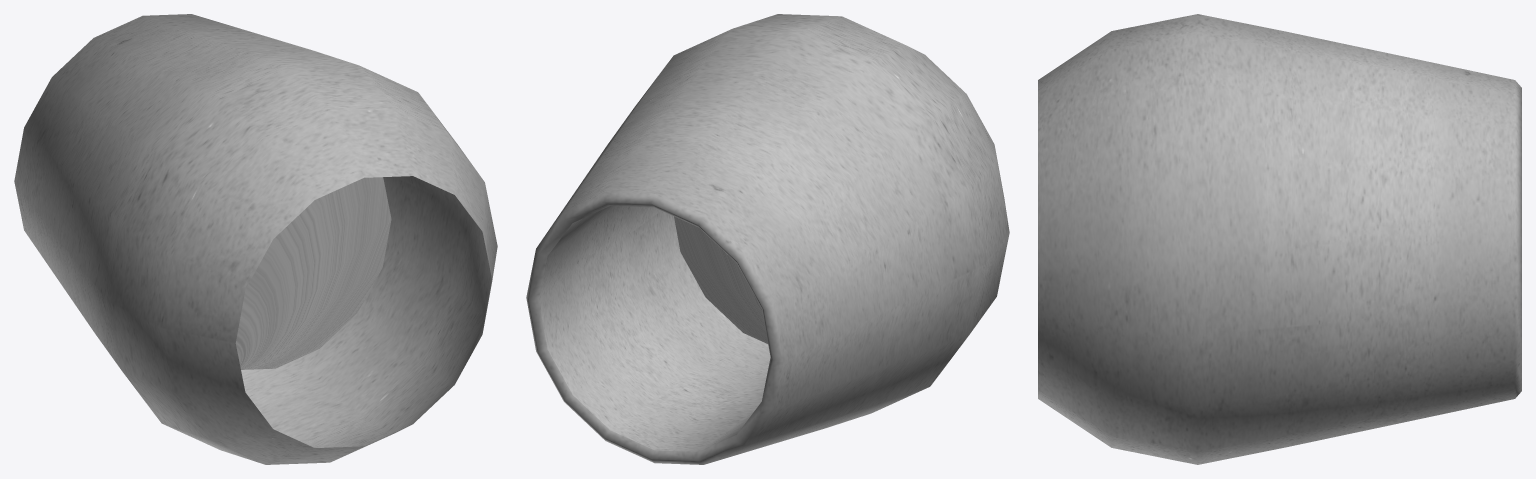
The model's file is vase001.FBX.
The picture shows the model from 3 angles, left to right: view 1: azimuth 30°, elevation 25°; view 2: azimuth 150°, elevation 25°; view 3: azimuth 270°, elevation 25°; orthographic projection. The views are drawn at different scales.
Parts seen in each view (by area): view 1: vase001; view 2: vase001; view 3: vase001.
Boxes of the visible parts, x1,y1,x2,y2 form: vase001: (14, 14, 497, 464); vase001: (526, 14, 1009, 464); vase001: (1038, 14, 1521, 464).
Bounding box in the file's own units: 19.24 × 19.24 × 20.61.
